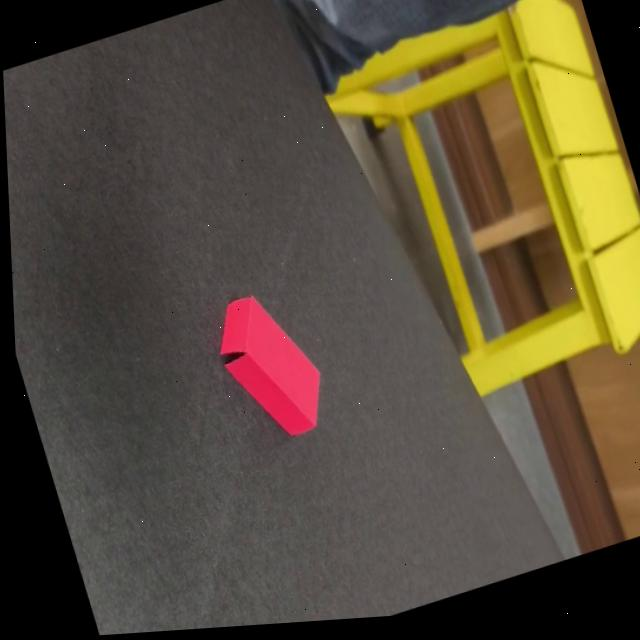red block: (204, 276, 336, 453)
